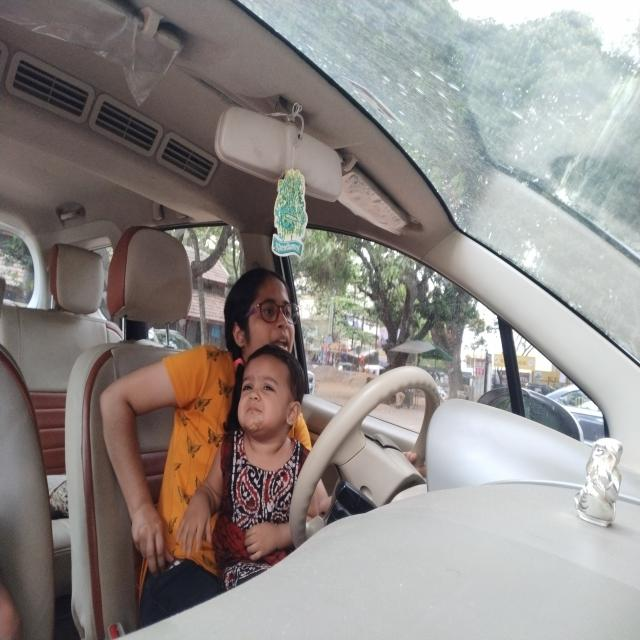child: (232, 342, 310, 439)
person: (214, 268, 308, 360)
